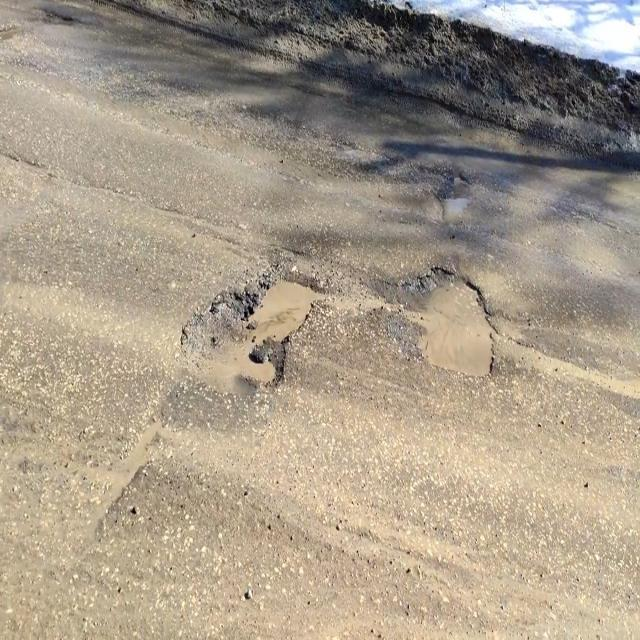Pothole: (188, 250, 328, 394), (398, 265, 500, 377)
